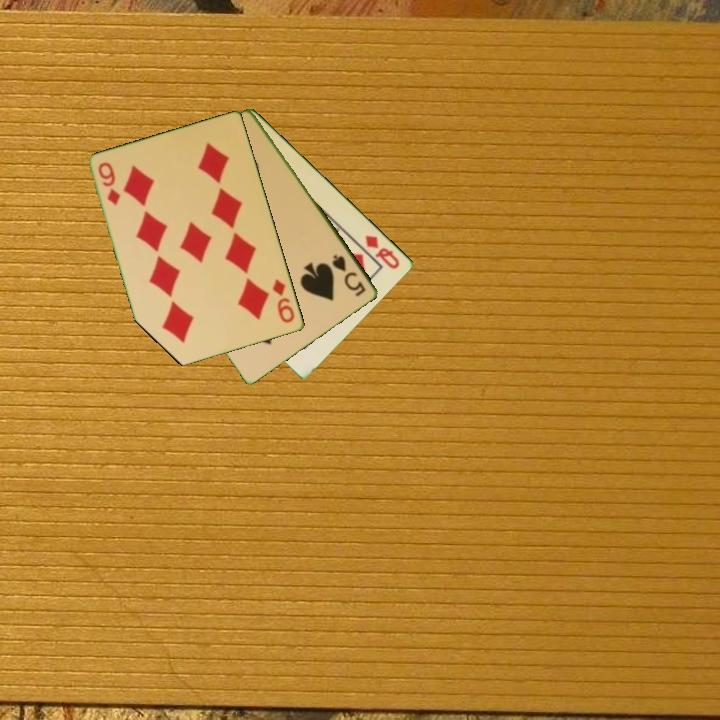5s: (329, 251, 369, 300)
9d: (269, 276, 298, 326), (95, 158, 124, 208)
Qd: (362, 231, 403, 272)
